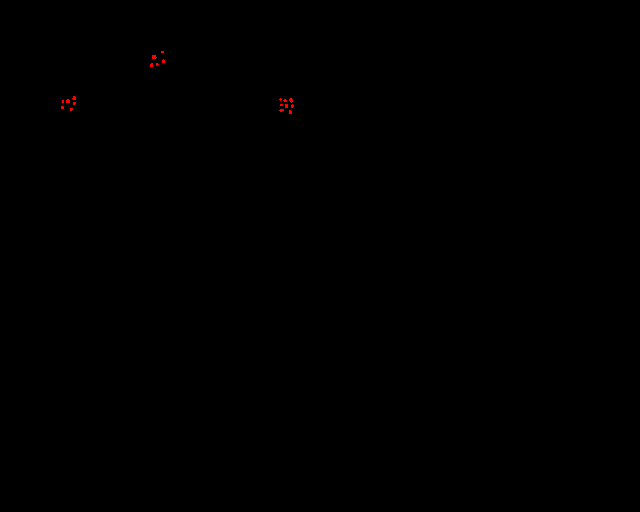Target: (152, 55, 157, 59), (289, 98, 293, 103), (72, 96, 76, 100), (66, 99, 70, 103), (279, 109, 284, 112), (162, 59, 165, 63), (150, 63, 153, 67), (283, 99, 287, 102), (285, 104, 288, 108), (291, 104, 294, 108), (289, 110, 292, 114), (156, 63, 159, 66), (279, 98, 282, 101), (73, 102, 76, 105), (61, 106, 64, 109), (70, 108, 73, 111), (161, 51, 164, 53), (62, 100, 64, 103), (280, 104, 283, 106)
